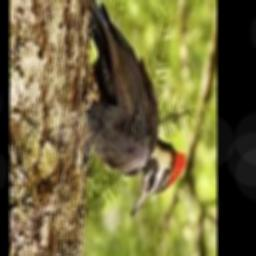Woodpecker: (86, 0, 186, 218)
